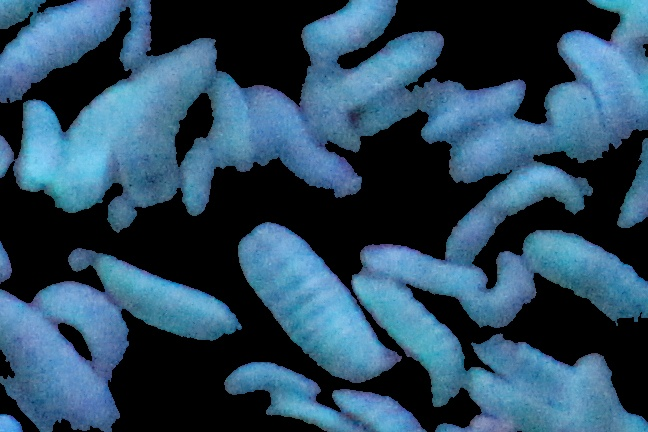larvae: (238, 222, 400, 384), (1, 292, 119, 432), (121, 38, 216, 208), (350, 271, 465, 407), (87, 252, 241, 341), (1, 1, 123, 100), (523, 228, 648, 319), (249, 88, 354, 192), (31, 281, 128, 374), (56, 77, 122, 213), (556, 30, 647, 122), (473, 330, 572, 403), (359, 241, 485, 297), (338, 32, 443, 99), (465, 368, 569, 432), (448, 118, 544, 184), (423, 80, 525, 141), (302, 1, 400, 55), (14, 98, 64, 195), (545, 83, 607, 160), (468, 248, 530, 323), (491, 166, 583, 216), (444, 196, 503, 269), (204, 71, 247, 171), (304, 71, 357, 151), (331, 388, 424, 432), (568, 352, 617, 432), (223, 360, 321, 399), (265, 394, 359, 432), (182, 137, 215, 214), (118, 1, 154, 67)
